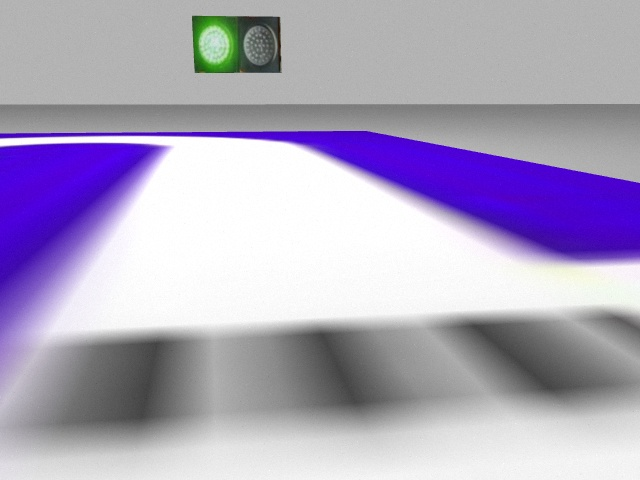green: (194, 16, 240, 74)
